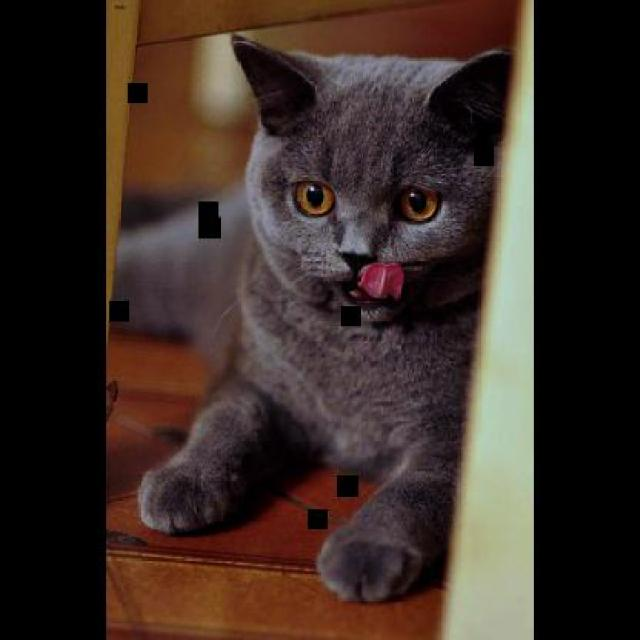unauthorized: (132, 32, 512, 603)
